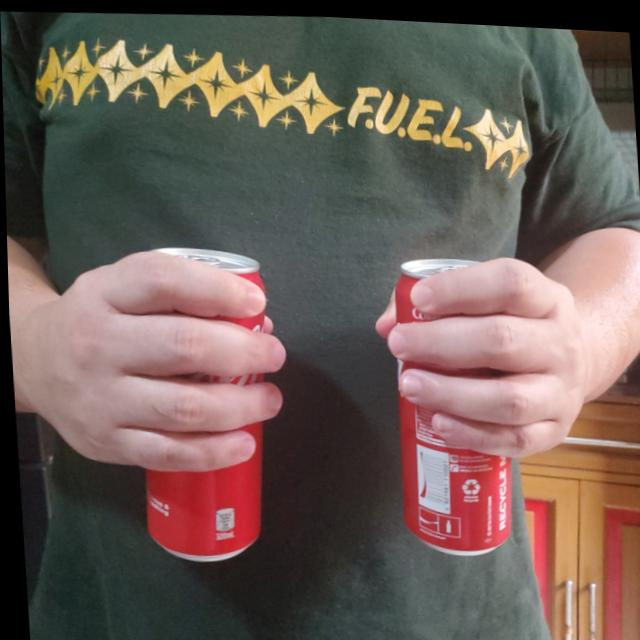coke: (125, 247, 276, 566), (384, 254, 523, 558)
